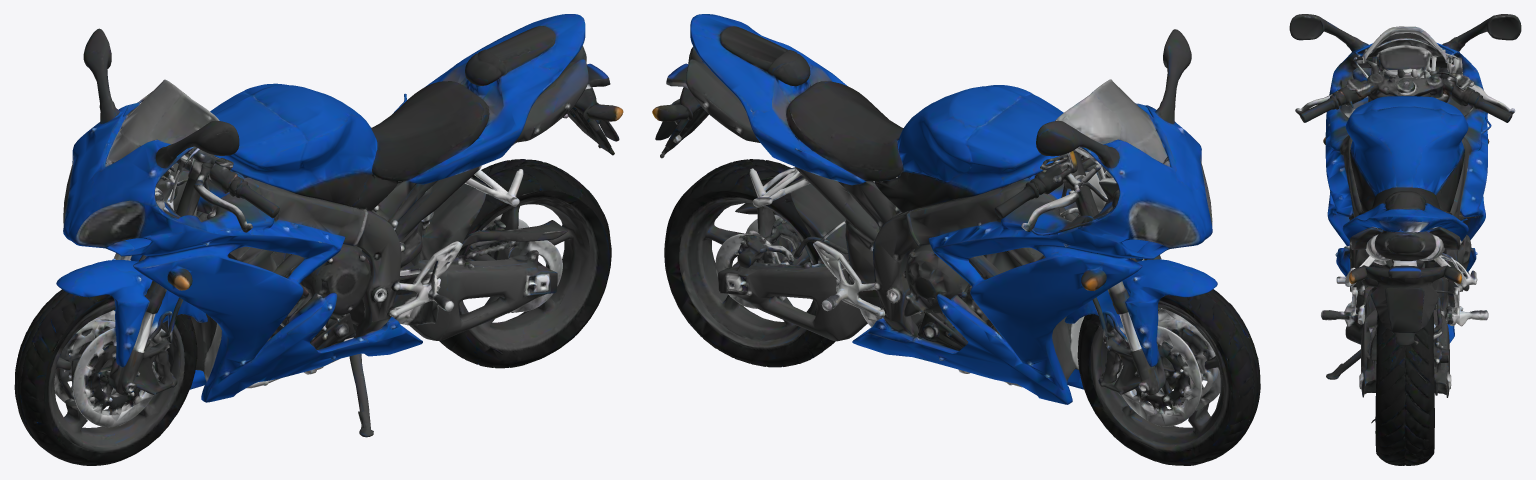
3 renders of one model, left to right at view 1: azimuth 30°, elevation 25°; view 2: azimuth 150°, elevation 25°; view 3: azimuth 270°, elevation 25°, orthographic. The views are drawn at different scales.
Size of the model in its own units: 1.9 by 1.13 by 0.7804.
Materials: 1 (1 with a texture image).
